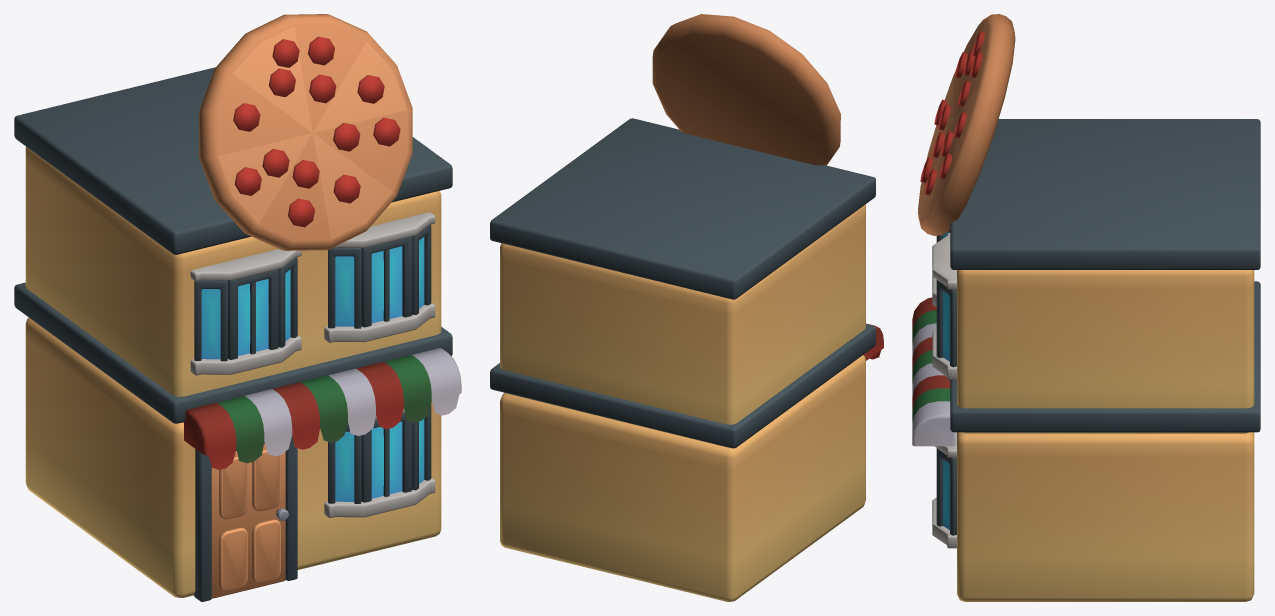
The model's file is mct_build_full_pizza.fbx.
3 views of the same model, side by side, from view 1: azimuth 30°, elevation 25°; view 2: azimuth 150°, elevation 25°; view 3: azimuth 270°, elevation 25° (orthographic). The views are drawn at different scales.
Parts seen in each view (by area): view 1: mct_build_full_pizza, mct_build_full_pizza_door; view 2: mct_build_full_pizza; view 3: mct_build_full_pizza.
Part boxes in pixels (x1=…): mct_build_full_pizza: x1=14, y1=14, x2=461, y2=601; mct_build_full_pizza_door: x1=211, y1=444, x2=288, y2=598; mct_build_full_pizza: x1=490, y1=14, x2=883, y2=601; mct_build_full_pizza: x1=912, y1=14, x2=1260, y2=601.
Size of the model in its own units: 417 by 768 by 469.
